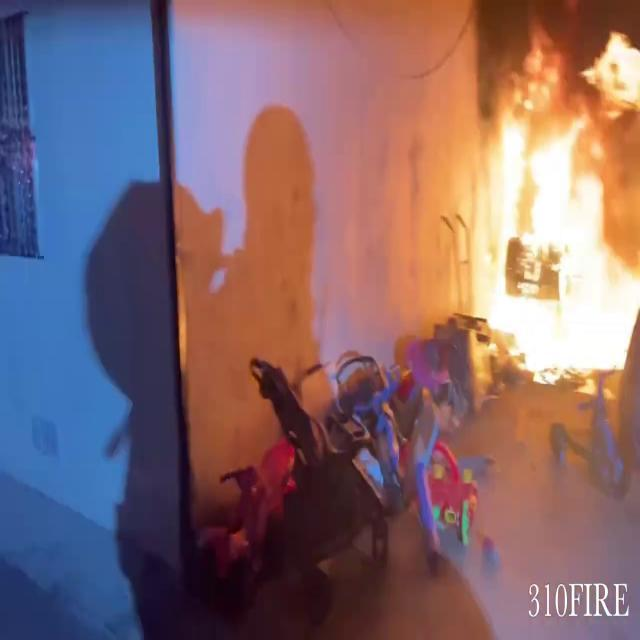Fire: (467, 19, 640, 393)
